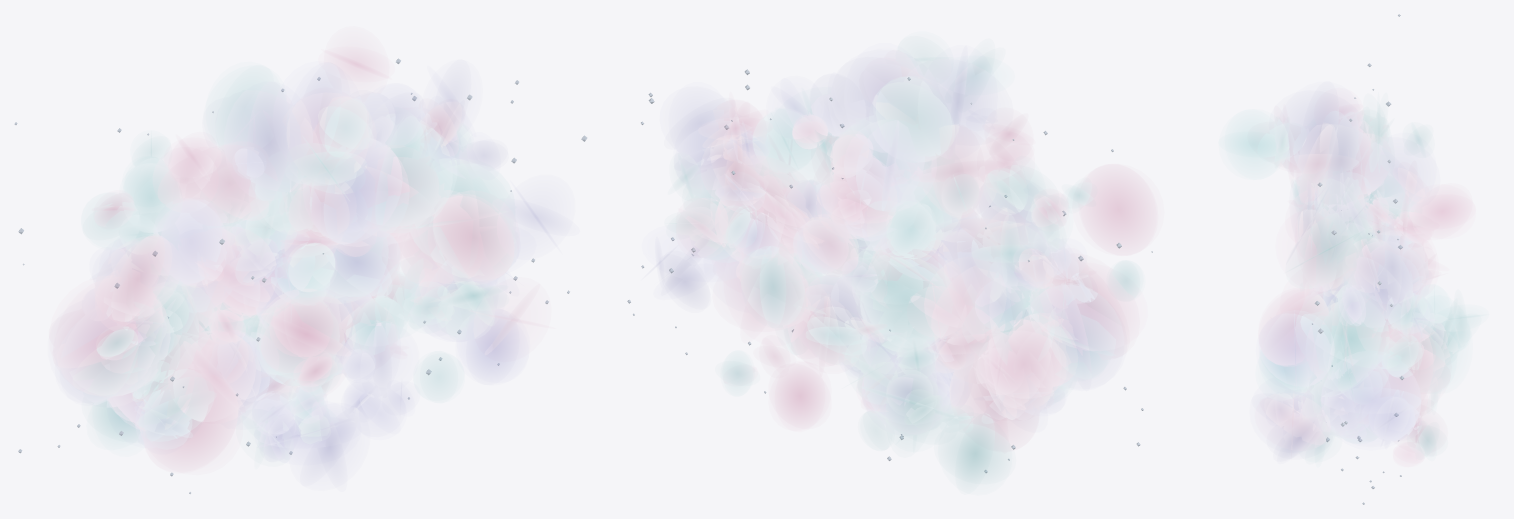
3 views of the same model, side by side, from view 1: azimuth 30°, elevation 25°; view 2: azimuth 150°, elevation 25°; view 3: azimuth 270°, elevation 25° (orthographic). The views are drawn at different scales.
Bounding box in the file's own units: 5.9 × 4.56 × 3.18.
